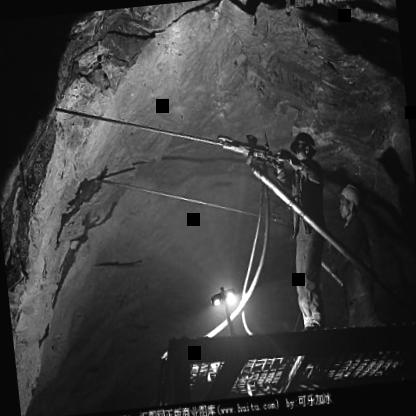helmet: (282, 126, 319, 167), (334, 182, 364, 226)
